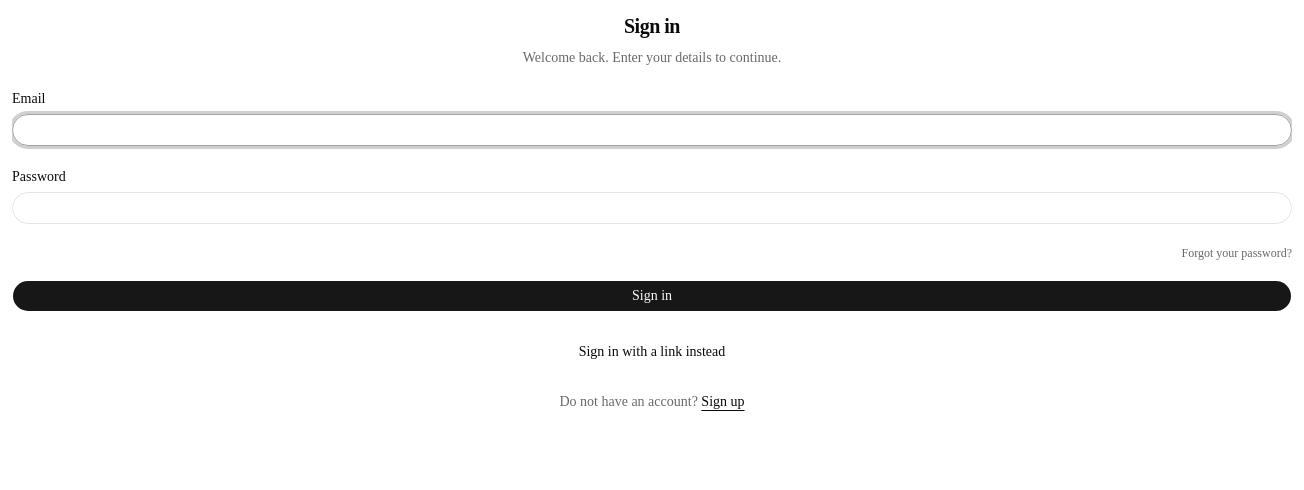
Test case: LoginForm — submission › preserves the typed email after a failed submit
Type "alex@example.com" into the field labelled "Email".
click(652, 130); type("alex@example.com")  # box [12, 114, 1292, 146]
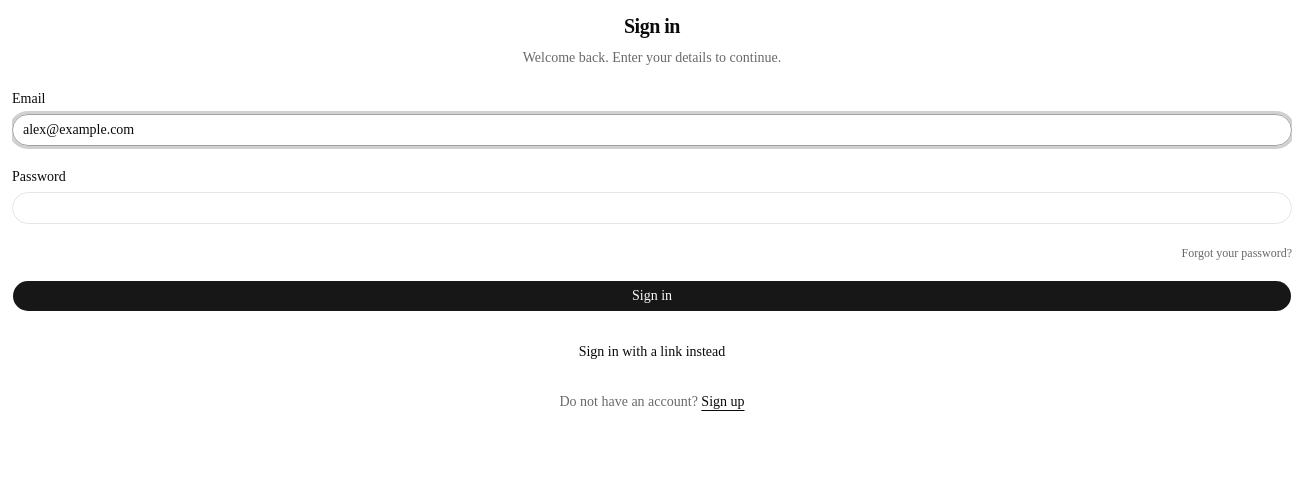
Type "correct horse battery" into the password field labelled "Password".
click(652, 208); type("correct horse battery")  # box [12, 192, 1292, 224]
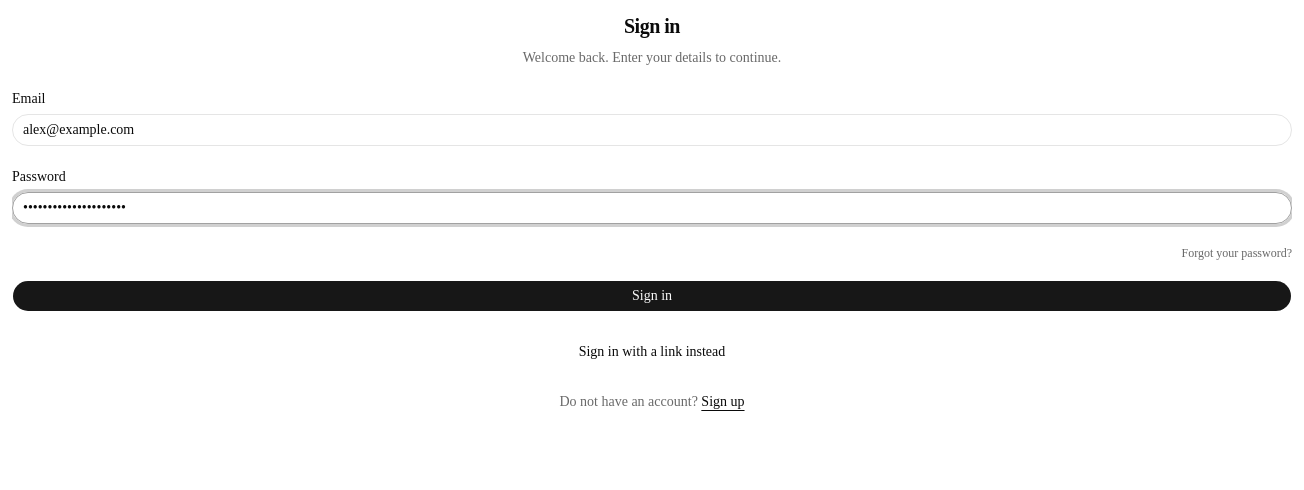
Click the button "Sign in".
click(652, 296)  # box [12, 280, 1292, 312]
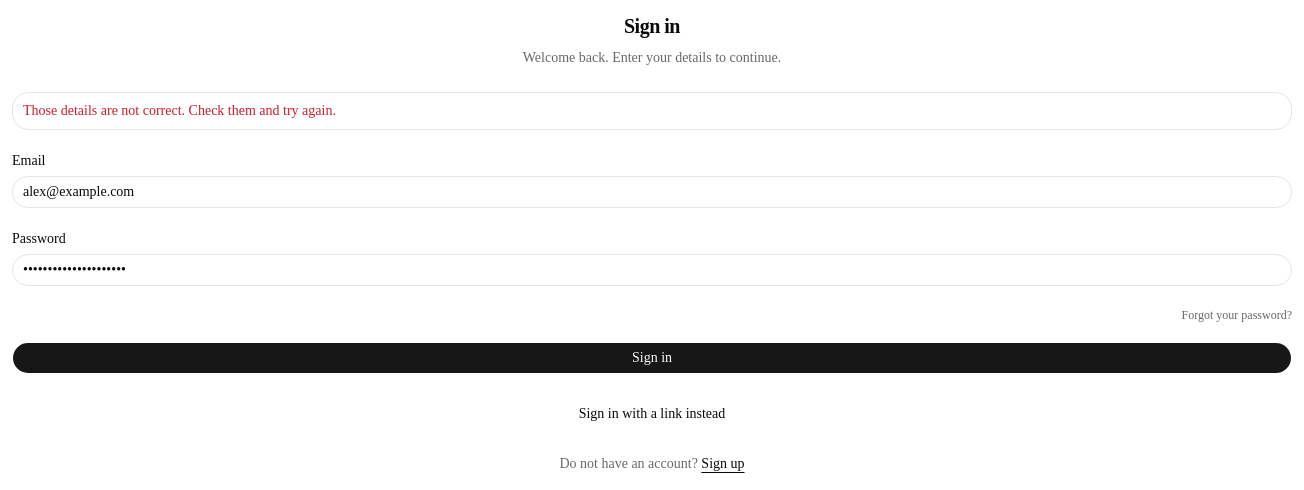
Expected: the message "Those details are not correct. Check them and try again." is shown, [12, 92, 1292, 130]
